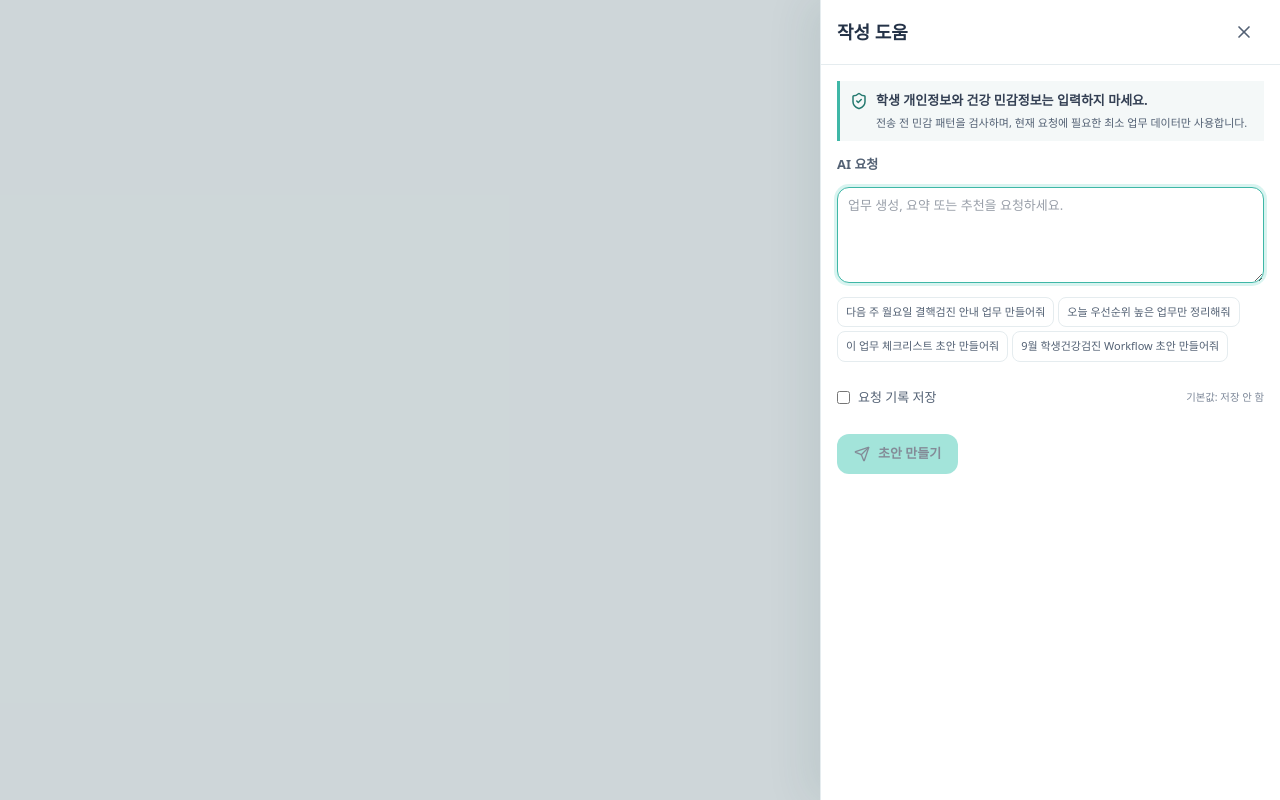
Scenario: AiAssistantPanel › warns on blocked sensitive input without showing a preview
This screenshot has width=1280, height=800.
In the text box labelled "AI 요청": (1050, 234) [837, 186, 1264, 282], type "학번 1234 상담 내용 정리"
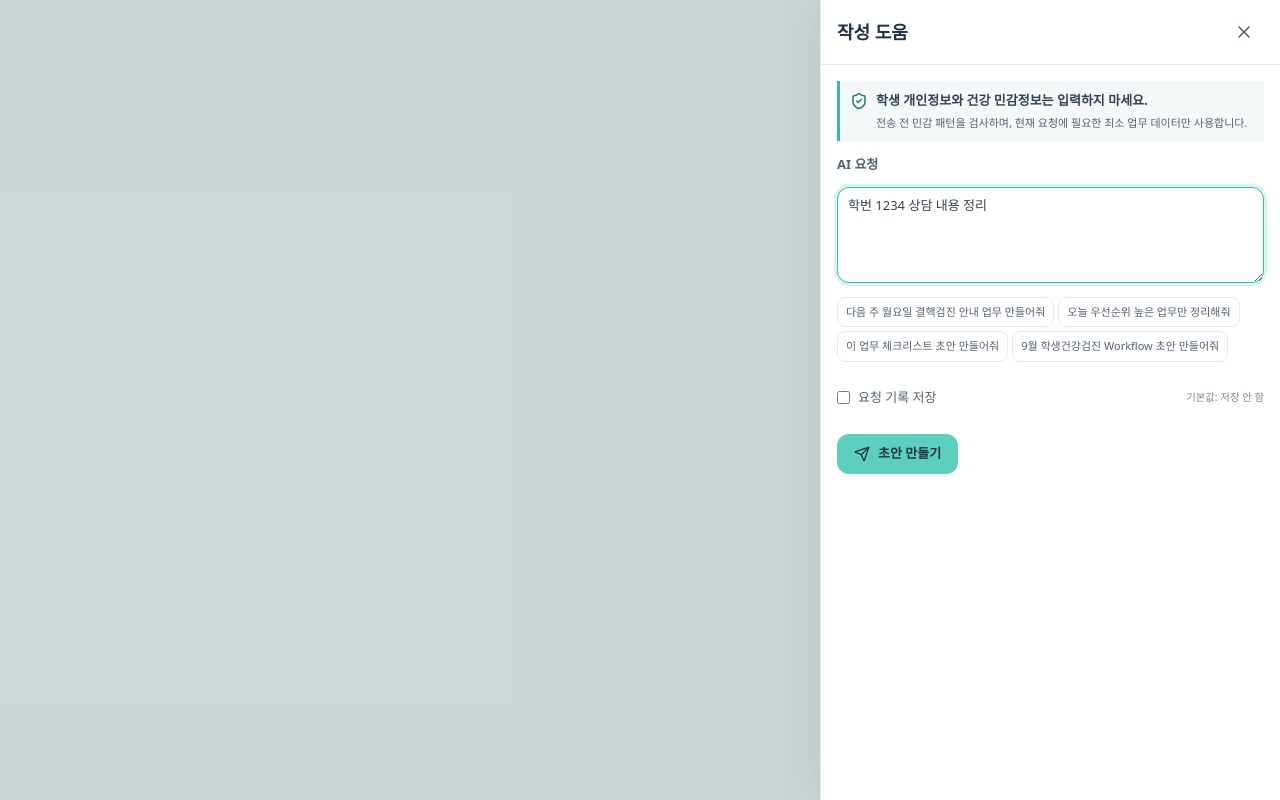
Click the button "초안 만들기": (898, 454) [837, 434, 958, 474]
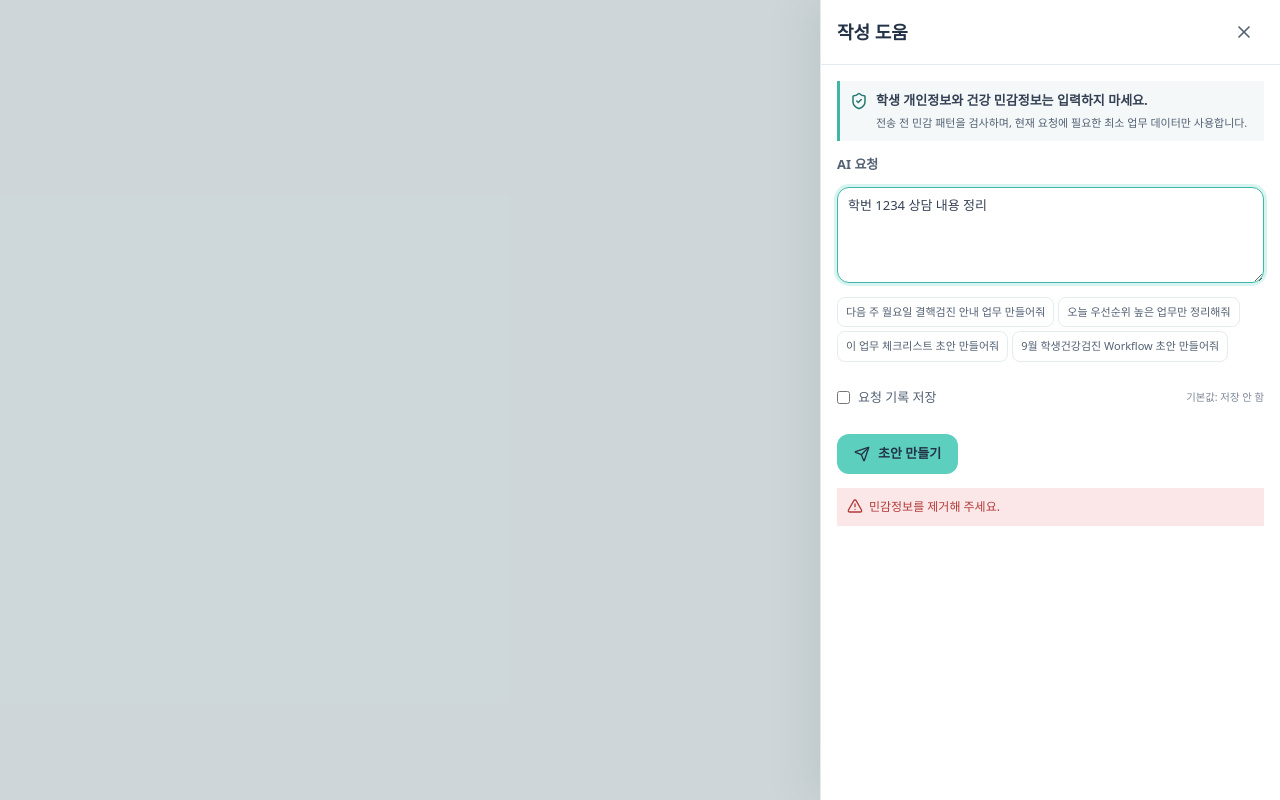
Result: the message shows "민감정보를 제거해 주세요" at [869, 498, 1000, 514]
